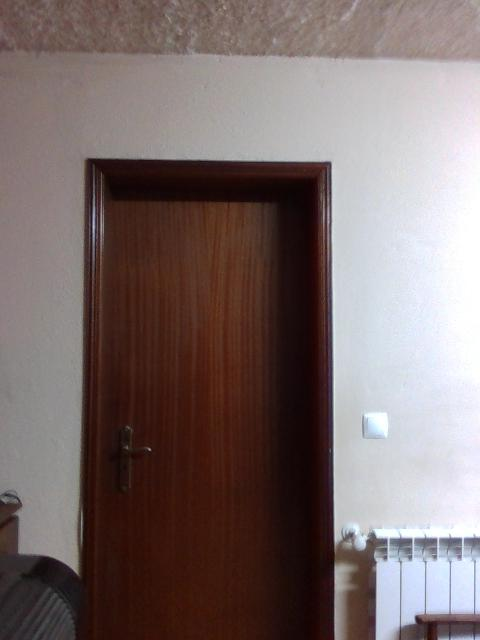door: (106, 185, 312, 639)
